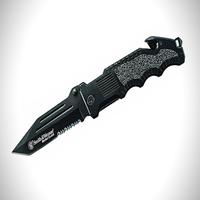knife: (8, 33, 184, 160)
